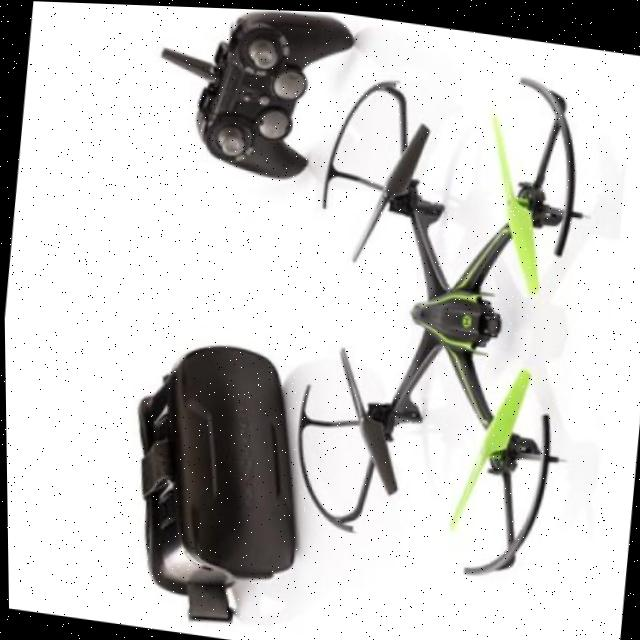drones: (213, 6, 640, 640)
